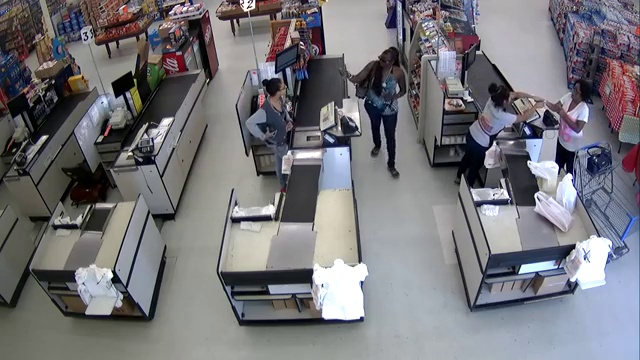face: (571, 85, 583, 101), (379, 56, 393, 69)
